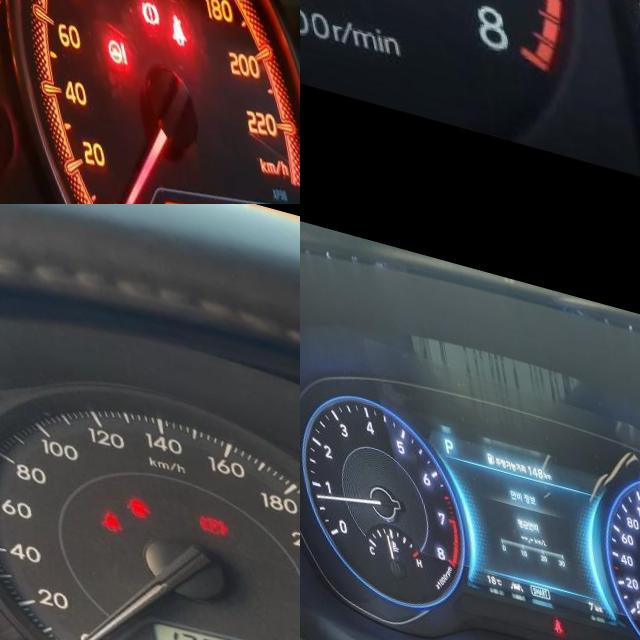LaneCenteringOff: (496, 561, 510, 574)
Seat Belt: (84, 496, 109, 524)
